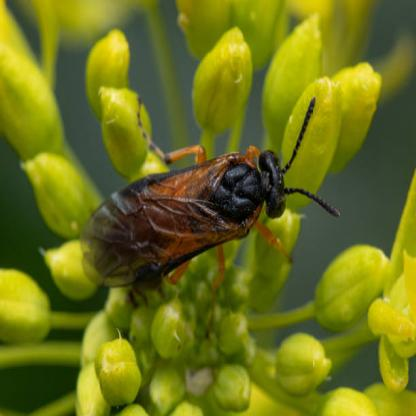sawfly: (76, 85, 344, 318)
